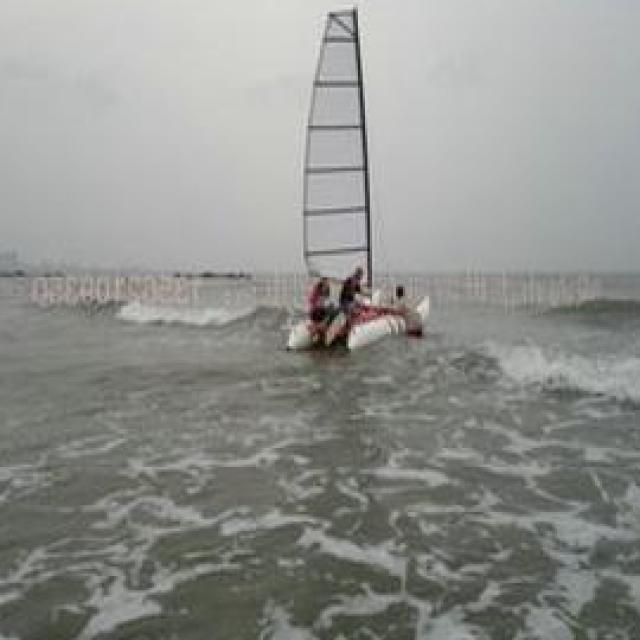sailboat: (292, 0, 469, 370)
